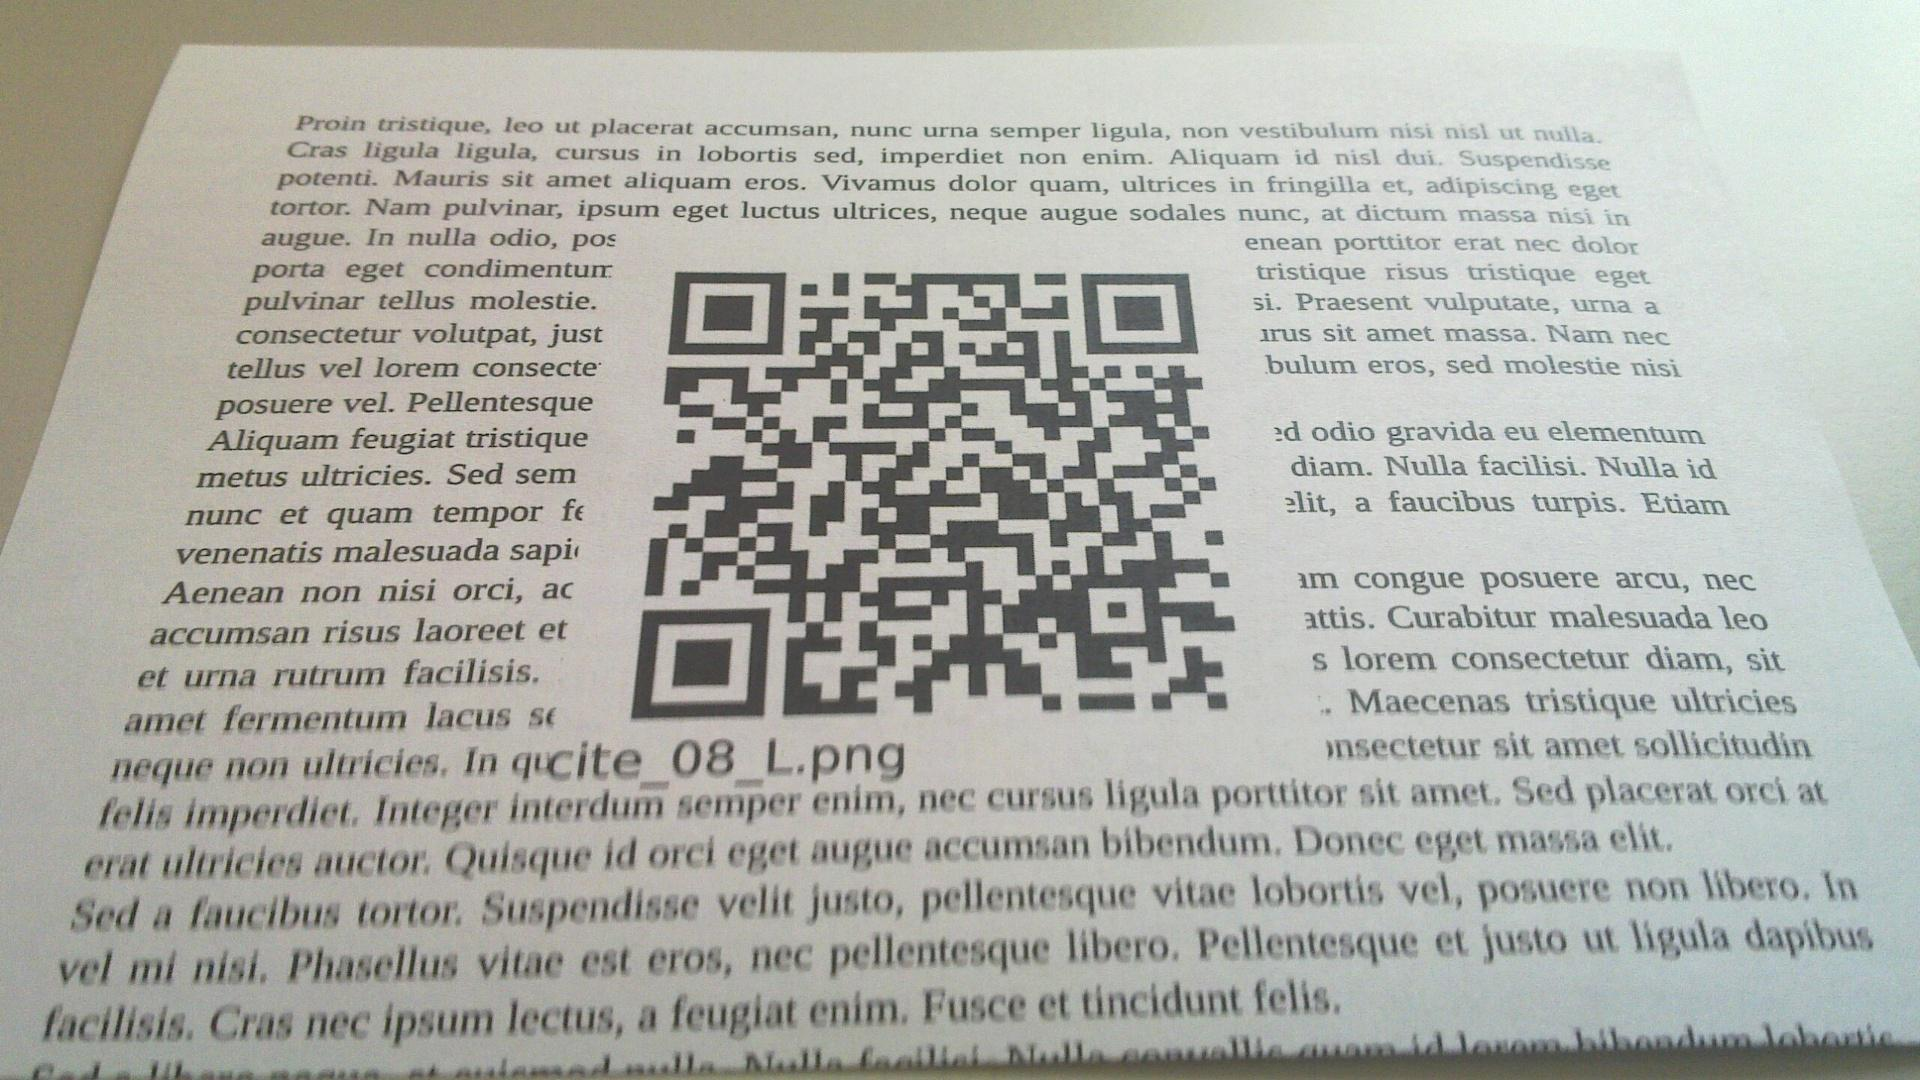qr_code: (632, 270, 1238, 720)
